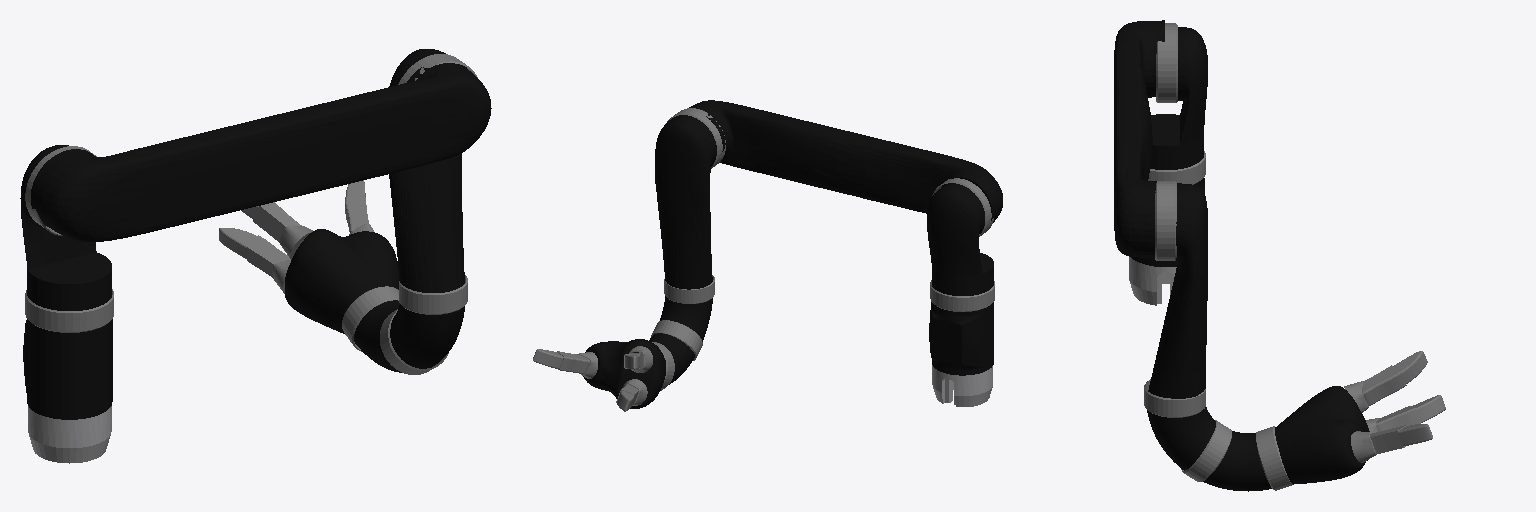
--- What the picture shows (computed from the rendered views, not written in the file) ---
Views: 3 orthographic renders of the robot side by side, from view 1: azimuth 30°, elevation 25°; view 2: azimuth 150°, elevation 25°; view 3: azimuth 270°, elevation 25°.
Robot: jaco_robot — 24 links, 23 joints (5 revolute, 4 continuous, 14 fixed); root link jaco_0_baseA; default pose: all joints at 0.
Links seen in each view (by area): view 1: jaco_2_upperarm_limb, jaco_3_forearm_limb, jaco_6_hand_limb, jaco_0_baseB_limb, jaco_1_shoulder_limb, jaco_0_baseA, jaco_4_upperwrist_limb, jaco_ring_1, jaco_ring_4, jaco_5_lowerwrist_limb, jaco_ring_6, jaco_8_finger_pinkie (+7 smaller); view 2: jaco_2_upperarm_limb, jaco_3_forearm_limb, jaco_1_shoulder_limb, jaco_0_baseB_limb, jaco_6_hand_limb, jaco_0_baseA, jaco_4_upperwrist_limb, jaco_ring_1, jaco_5_lowerwrist_limb, jaco_ring_5, jaco_ring_4, jaco_ring_3 (+1 smaller); view 3: jaco_2_upperarm_limb, jaco_3_forearm_limb, jaco_6_hand_limb, jaco_1_shoulder_limb, jaco_4_upperwrist_limb, jaco_5_lowerwrist_limb, jaco_ring_3, jaco_ring_2, jaco_0_baseA, jaco_ring_6, jaco_ring_5, jaco_ring_4 (+8 smaller).
Link boxes in pixels (bbox=[...]): jaco_2_upperarm_limb: bbox=[31, 63, 491, 241]; jaco_3_forearm_limb: bbox=[389, 49, 466, 292]; jaco_6_hand_limb: bbox=[285, 229, 398, 333]; jaco_0_baseB_limb: bbox=[23, 319, 112, 419]; jaco_1_shoulder_limb: bbox=[20, 145, 111, 310]; jaco_0_baseA: bbox=[28, 406, 111, 463]; jaco_4_upperwrist_limb: bbox=[390, 304, 464, 368]; jaco_ring_1: bbox=[25, 289, 113, 332]; jaco_ring_4: bbox=[399, 275, 467, 314]; jaco_5_lowerwrist_limb: bbox=[354, 300, 431, 372]; jaco_ring_6: bbox=[342, 286, 398, 351]; jaco_8_finger_pinkie: bbox=[253, 202, 303, 248]; jaco_2_upperarm_limb: bbox=[689, 100, 1002, 222]; jaco_3_forearm_limb: bbox=[655, 115, 716, 289]; jaco_1_shoulder_limb: bbox=[927, 183, 993, 295]; jaco_0_baseB_limb: bbox=[929, 302, 993, 375]; jaco_6_hand_limb: bbox=[583, 339, 665, 408]; jaco_0_baseA: bbox=[932, 365, 992, 406]; jaco_4_upperwrist_limb: bbox=[660, 296, 712, 341]; jaco_ring_1: bbox=[930, 280, 994, 311]; jaco_5_lowerwrist_limb: bbox=[649, 333, 694, 384]; jaco_ring_5: bbox=[651, 320, 702, 360]; jaco_ring_4: bbox=[664, 275, 714, 303]; jaco_ring_3: bbox=[667, 108, 725, 168]; jaco_2_upperarm_limb: bbox=[1114, 20, 1164, 257]; jaco_3_forearm_limb: bbox=[1148, 183, 1207, 398]; jaco_6_hand_limb: bbox=[1275, 386, 1369, 484]; jaco_1_shoulder_limb: bbox=[1150, 27, 1207, 169]; jaco_4_upperwrist_limb: bbox=[1147, 407, 1215, 470]; jaco_5_lowerwrist_limb: bbox=[1203, 431, 1271, 491]; jaco_ring_3: bbox=[1155, 181, 1176, 260]; jaco_ring_2: bbox=[1156, 23, 1177, 102]; jaco_0_baseA: bbox=[1129, 257, 1176, 305]; jaco_ring_6: bbox=[1256, 426, 1292, 490]; jaco_ring_5: bbox=[1181, 420, 1231, 481]; jaco_ring_4: bbox=[1144, 379, 1205, 417].
Size in the robot's own frame: 0.5338 by 0.3578 by 0.3608 metres.
23 mesh visuals loaded from 23 distinct referenced files (23 binary STL).

URDF robot description (jaco_robot):
<?xml version="1.0" ?>
<!-- =================================================================================== -->
<!-- |    This document was autogenerated by xacro from jaco_robot.urdf.xacro          | -->
<!-- |    EDITING THIS FILE BY HAND IS NOT RECOMMENDED                                 | -->
<!-- =================================================================================== -->
<robot name="jaco_robot" xmlns:controller="http://playerstage.sourceforge.net/gazebo/xmlschema/#controller" xmlns:interface="http://playerstage.sourceforge.net/gazebo/xmlschema/#interface" xmlns:sensor="http://playerstage.sourceforge.net/gazebo/xmlschema/#sensor" xmlns:xacro="http://ros.org/wiki/xacro">
  <!--link name="robot_root">
  </link-->
  <!-- fake cylinder which is actually a box -->
  <!--xacro:macro name="cyl_inertia" params="mass r h ">
      <mass value="${mass}"/>
      <inertia
      ixx="${mass / 12.0 * (r*r + h*h)}" ixy="0.0" ixz="0.0"
      iyy="${mass / 12.0 * (h*h + r*r)}" iyz="0.0"
      izz="${mass / 12.0 * (r*r + r*r)}"/>
  </xacro:macro-->
  <!-- ***************** MODEL CORRECTIONS ************************* -->
  <!-- *************************************************************** -->
  <!-- from measurements, pitch is -0.2293 -->
  <!-- MODEL_FIX transforms from wrist to finger mounts -->
  <!--<xacro:property name="f_thb_m_xyz" value=" 0.037  0.001  0.106" />
  <xacro:property name="f_idx_m_xyz" value="-0.034  0.022 0.106" />
  <xacro:property name="f_pnk_m_xyz" value="-0.034 -0.022 0.106" />
  <xacro:property name="f_thb_m_rpy" value="0 -0.2658 ${M_PI-0.226892}" /> 
  <xacro:property name="f_idx_m_rpy" value="0 -0.2293 -0.191986" />
  <xacro:property name="f_pnk_m_rpy" value="0 -0.2293 0.191986" />-->
  <!--joint name="jaco_arm_joint" type="fixed">
    <origin rpy="0 0 0" xyz="0 0 0"/>
    <parent link="robot_root"/>
    <child link="jaco_0_baseA"/>
  </joint-->
  <!-- for some reason, material only applies if full name specified...
       these only seem to work in older gazebo versions -->
  <gazebo reference="jaco_ring_">
    <material>Gazebo/Grey</material>
    <implicitSpringDamper>1</implicitSpringDamper>
    <mu1>100000</mu1>
    <mu2>100000</mu2>
    <kp>100000000.0</kp>
    <kd>1.0</kd>
  </gazebo>
  <gazebo reference="_limb">
    <material>Gazebo/FlatBlack</material>
    <implicitSpringDamper>1</implicitSpringDamper>
    <mu1>100000</mu1>
    <mu2>100000</mu2>
    <kp>100000000.0</kp>
    <kd>1.0</kd>
  </gazebo>
  <gazebo reference="_finger">
    <material>Gazebo/Grey</material>
    <implicitSpringDamper>1</implicitSpringDamper>
    <mu1>100000</mu1>
    <mu2>100000</mu2>
    <kp>100000000.0</kp>
    <kd>1.0</kd>
  </gazebo>
  <!-- for some reason, material only applies if full name specified -->
  <gazebo reference="jaco_0_baseA">
    <material>Gazebo/White</material>
    <mu1>100000</mu1>
    <mu2>100000</mu2>
    <kp>100000000.0</kp>
    <kd>1.0</kd>
  </gazebo>
  <gazebo reference="jaco_0_baseB_limb">
    <material>Gazebo/FlatBlack</material>
    <mu1>100000</mu1>
    <mu2>100000</mu2>
    <kp>100000000.0</kp>
    <kd>1.0</kd>
  </gazebo>
  <gazebo reference="jaco_ring_1">
    <material>Gazebo/Grey</material>
    <mu1>100000</mu1>
    <mu2>100000</mu2>
    <kp>100000000.0</kp>
    <kd>1.0</kd>
  </gazebo>
  <gazebo reference="jaco_ring_2">
    <material>Gazebo/Grey</material>
    <mu1>100000</mu1>
    <mu2>100000</mu2>
    <kp>100000000.0</kp>
    <kd>1.0</kd>
  </gazebo>
  <gazebo reference="jaco_ring_3">
    <material>Gazebo/Grey</material>
    <mu1>100000</mu1>
    <mu2>100000</mu2>
    <kp>100000000.0</kp>
    <kd>1.0</kd>
  </gazebo>
  <gazebo reference="jaco_ring_4">
    <material>Gazebo/Grey</material>
    <mu1>100000</mu1>
    <mu2>100000</mu2>
    <kp>100000000.0</kp>
    <kd>1.0</kd>
  </gazebo>
  <gazebo reference="jaco_ring_5">
    <material>Gazebo/Grey</material>
    <mu1>100000</mu1>
    <mu2>100000</mu2>
    <kp>100000000.0</kp>
    <kd>1.0</kd>
  </gazebo>
  <gazebo reference="jaco_ring_6">
    <material>Gazebo/Grey</material>
    <mu1>100000</mu1>
    <mu2>100000</mu2>
    <kp>100000000.0</kp>
    <kd>1.0</kd>
  </gazebo>
  <gazebo reference="jaco_1_shoulder_limb">
    <material>Gazebo/FlatBlack</material>
    <mu1>100000</mu1>
    <mu2>100000</mu2>
    <kp>100000000.0</kp>
    <kd>1.0</kd>
  </gazebo>
  <gazebo reference="jaco_2_upperarm_limb">
    <material>Gazebo/FlatBlack</material>
    <mu1>100000</mu1>
    <mu2>100000</mu2>
    <kp>100000000.0</kp>
    <kd>1.0</kd>
  </gazebo>
  <gazebo reference="jaco_3_forearm_limb">
    <material>Gazebo/FlatBlack</material>
    <mu1>100000</mu1>
    <mu2>100000</mu2>
    <kp>100000000.0</kp>
    <kd>1.0</kd>
  </gazebo>
  <gazebo reference="jaco_4_upperwrist_limb">
    <material>Gazebo/FlatBlack</material>
    <mu1>100000</mu1>
    <mu2>100000</mu2>
    <kp>100000000.0</kp>
    <kd>1.0</kd>
  </gazebo>
  <gazebo reference="jaco_5_lowerwrist_limb">
    <material>Gazebo/FlatBlack</material>
    <mu1>100000</mu1>
    <mu2>100000</mu2>
    <kp>100000000.0</kp>
    <kd>1.0</kd>
  </gazebo>
  <gazebo reference="jaco_6_hand_limb">
    <material>Gazebo/FlatBlack</material>
    <mu1>100000</mu1>
    <mu2>100000</mu2>
    <kp>100000000.0</kp>
    <kd>1.0</kd>
  </gazebo>
  <gazebo reference="jaco_fingers_base_link">
    <material>Gazebo/FlatBlack</material>
    <mu1>100000</mu1>
    <mu2>100000</mu2>
    <kp>100000000.0</kp>
    <kd>1.0</kd>
  </gazebo>
  <gazebo reference="jaco_7_finger_mount_index">
    <material>Gazebo/FlatBlack</material>
    <mu1>100000</mu1>
    <mu2>100000</mu2>
    <kp>100000000.0</kp>
    <kd>1.0</kd>
  </gazebo>
  <gazebo reference="jaco_7_finger_mount_thumb">
    <material>Gazebo/FlatBlack</material>
    <mu1>100000</mu1>
    <mu2>100000</mu2>
    <kp>100000000.0</kp>
    <kd>1.0</kd>
  </gazebo>
  <gazebo reference="jaco_7_finger_mount_pinkie">
    <material>Gazebo/FlatBlack</material>
    <mu1>100000</mu1>
    <mu2>100000</mu2>
    <kp>100000000.0</kp>
    <kd>1.0</kd>
  </gazebo>
  <gazebo reference="jaco_8_finger_thumb">
    <material>Gazebo/Grey</material>
    <mu1>100000</mu1>
    <mu2>100000</mu2>
    <kp>100000000.0</kp>
    <kd>1.0</kd>
  </gazebo>
  <gazebo reference="jaco_8_finger_index">
    <material>Gazebo/Grey</material>
    <mu1>100000</mu1>
    <mu2>100000</mu2>
    <kp>100000000.0</kp>
    <kd>1.0</kd>
  </gazebo>
  <gazebo reference="jaco_8_finger_pinkie">
    <material>Gazebo/Grey</material>
    <mu1>100000</mu1>
    <mu2>100000</mu2>
    <kp>100000000.0</kp>
    <kd>1.0</kd>
  </gazebo>
  <gazebo reference="jaco_9_finger_thumb_tip">
    <material>Gazebo/Grey</material>
    <mu1>100000</mu1>
    <mu2>100000</mu2>
    <kp>100000000.0</kp>
    <kd>1.0</kd>
  </gazebo>
  <gazebo reference="jaco_9_finger_index_tip">
    <material>Gazebo/Grey</material>
    <mu1>100000</mu1>
    <mu2>100000</mu2>
    <kp>100000000.0</kp>
    <kd>1.0</kd>
  </gazebo>
  <gazebo reference="jaco_9_finger_pinkie_tip">
    <material>Gazebo/Grey</material>
    <mu1>100000</mu1>
    <mu2>100000</mu2>
    <kp>100000000.0</kp>
    <kd>1.0</kd>
  </gazebo>
  <gazebo reference="jaco_finger_joint_0">
    <provideFeedback value="true"/>
  </gazebo>
  <gazebo reference="jaco_finger_joint_2">
    <provideFeedback value="true"/>
  </gazebo>
  <gazebo reference="jaco_finger_joint_4">
    <provideFeedback value="true"/>
  </gazebo>
  <link name="jaco_0_baseA">
    <inertial>
      <origin rpy="0 0 0" xyz="0 0 0.03"/>
      <mass value="0.5688"/>
      <inertia ixx="0.000349289202838" ixy="0" ixz="0" iyy="0.000349289202838" iyz="0" izz="0.0003685824"/>
    </inertial>
    <visual>
      <origin rpy="0 0 0" xyz="0 0 0"/>
      <geometry>
        <mesh filename="meshes/0_baseA.STL" scale="0.98 0.98 0.98"/>
      </geometry>
      <material name="light_grey">
        <color rgba="0.65 0.65 0.66 1"/>
      </material>
    </visual>
    <collision>
      <origin rpy="0 0 0" xyz="0 0 0"/>
      <geometry>
        <mesh filename="meshes/0_baseA.STL"/>
      </geometry>
    </collision>
  </link>
  <!-- ...........................        -->
  <link name="jaco_0_baseB_limb">
    <inertial>
      <origin rpy="0 0 0" xyz="0 0.04725 0"/>
      <mass value="0.5152"/>
      <inertia ixx="0.000589483042058" ixy="0" ixz="0" iyy="0.000589483042058" iyz="0" izz="0.00041216"/>
    </inertial>
    <visual>
      <origin rpy="0 0 0" xyz="0 0 0"/>
      <geometry>
        <mesh filename="meshes/0_baseB_limb.STL"/>
      </geometry>
      <material name="black">
        <color rgba="0.10 0.10 0.10 1"/>
      </material>
    </visual>
    <collision>
      <origin rpy="0 0 0" xyz="0 0 0"/>
      <geometry>
        <mesh filename="meshes/0_baseB_limb.STL"/>
      </geometry>
    </collision>
  </link>
  <joint name="jaco_base_internal" type="fixed">
    <origin rpy="1.57079632679 0 0" xyz="0 0 0.049"/>
    <parent link="jaco_0_baseA"/>
    <child link="jaco_0_baseB_limb"/>
    <axis xyz="0 0 0"/>
  </joint>
  <link name="jaco_ring_1">
    <inertial>
      <origin rpy="0 0 0" xyz="-3.57503886452221E-16 -1.58125151997128E-15 -5.55111512312578E-17"/>
      <mass value="0.00872"/>
      <inertia ixx="3.778651552e-06" ixy="0" ixz="0" iyy="3.778651552e-06" iyz="0" izz="6.976e-06"/>
    </inertial>
    <visual>
      <origin rpy="0 0 0" xyz="0 0 0"/>
      <geometry>
        <mesh filename="meshes/ring_1.STL"/>
      </geometry>
      <material name="grey">
        <color rgba="0.50 0.50 0.50 1"/>
      </material>
    </visual>
    <collision>
      <origin rpy="0 0 0" xyz="0 0 0"/>
      <geometry>
        <mesh filename="meshes/ring_1.STL"/>
      </geometry>
    </collision>
  </link>
  <joint name="jaco_ring_1_joint" type="fixed">
    <origin rpy="-1.57079632679 0.211499083190217 -3.14159265359" xyz="0 0.104 0"/>
    <parent link="jaco_0_baseB_limb"/>
    <child link="jaco_ring_1"/>
    <axis xyz="0 0 0"/>
  </joint>
  <!-- ...........................        -->
  <link name="jaco_1_shoulder_limb">
    <inertial>
      <origin rpy="0 0 0" xyz="0.0120470281905243 0.0657132437750733 0"/>
      <mass value="0.4782"/>
      <inertia ixx="0.00119872305509" ixy="0" ixz="0" iyy="0.00119872305509" iyz="0" izz="0.00038256"/>
    </inertial>
    <visual>
      <origin rpy="0 0 0" xyz="0 0 0"/>
      <geometry>
        <mesh filename="meshes/1_shoulder_limb.STL"/>
      </geometry>
      <material name="black">
        <color rgba="0.10 0.10 0.10 1"/>
      </material>
    </visual>
    <!--     <visual>
      <origin xyz="0 0 0" rpy="0 0 0" />
      <geometry>
        <sphere radius="0.005"/>
      </geometry>
      <material name="">
        <color rgba="0.10 0.10 0.10 1" />
      </material>
    </visual>
-->
    <collision>
      <origin rpy="0 0 0" xyz="0 0 0"/>
      <geometry>
        <mesh filename="meshes/1_shoulder_limb.STL"/>
      </geometry>
    </collision>
  </link>
  <joint name="jaco_arm_0_joint" type="continuous">
    <limit effort="8" velocity="1.0"/>
    <dynamics damping="0.5" friction="0.5"/>
    <origin rpy="0 1.57079632679 0" xyz="0 0.104 0"/>
    <parent link="jaco_0_baseB_limb"/>
    <child link="jaco_1_shoulder_limb"/>
    <axis xyz="0 1 0"/>
  </joint>
  <!-- ...........................        -->
  <link name="jaco_ring_2">
    <inertial>
      <origin rpy="0 0 0" xyz="0 0 0"/>
      <mass value="0.00872"/>
      <inertia ixx="3.778651552e-06" ixy="0" ixz="0" iyy="3.778651552e-06" iyz="0" izz="6.976e-06"/>
    </inertial>
    <visual>
      <origin rpy="0 0 0" xyz="-0.0005 -0.003 -0.001"/>
      <geometry>
        <mesh filename="meshes/ring_2.STL"/>
      </geometry>
      <material name="grey">
        <color rgba="0.50 0.50 0.50 1"/>
      </material>
    </visual>
    <collision>
      <origin rpy="0 0 0" xyz="-0.0005 -0.003 -0.001"/>
      <geometry>
        <mesh filename="meshes/ring_2.STL"/>
      </geometry>
    </collision>
  </link>
  <joint name="jaco_ring_2_joint" type="fixed">
    <origin rpy="-1.57079632679488 -1.49007956532211 1.57079632679488" xyz="0 0.1225 0"/>
    <parent link="jaco_1_shoulder_limb"/>
    <child link="jaco_ring_2"/>
    <axis xyz="0 0 0"/>
  </joint>
  <!-- ...........................        -->
  <link name="jaco_2_upperarm_limb">
    <inertial>
      <origin rpy="0 0 0" xyz="0.206003857152394 0 -0.0343672381612413"/>
      <mass value="1.37163"/>
      <inertia ixx="0.0282672380881" ixy="0" ixz="0" iyy="0.0282672380881" iyz="0" izz="0.001646641815"/>
    </inertial>
    <visual>
      <origin rpy="0 0 0" xyz="-0.003 -0.001 -0.001"/>
      <geometry>
        <mesh filename="meshes/2_upperarm_limb.STL"/>
      </geometry>
      <material name="black">
        <color rgba="0.10 0.10 0.10 1"/>
      </material>
    </visual>
    <!--     <visual>
      <origin xyz="0 0 0" rpy="0 0 0" />
      <geometry>
        <sphere radius="0.005"/>
      </geometry>
      <material name="">
        <color rgba="0.10 0.10 0.10 1" />
      </material>
    </visual>
-->
    <collision>
      <origin rpy="0 0 0" xyz="-0.003 -0.001 -0.001"/>
      <geometry>
        <mesh filename="meshes/2_upperarm_limb.STL"/>
      </geometry>
    </collision>
  </link>
  <joint name="jaco_arm_1_joint" type="revolute">
    <dynamics damping="0.5" friction="0.5"/>
    <limit effort="8" lower="-3.943" upper="0.81" velocity="1.0"/>
    <origin rpy="3.14159265359 -1.57079632679 0" xyz="0 0.1225 0"/>
    <parent link="jaco_1_shoulder_limb"/>
    <child link="jaco_2_upperarm_limb"/>
    <axis xyz="0 0 1"/>
  </joint>
  <!-- ...........................        -->
  <link name="jaco_ring_3">
    <inertial>
      <origin rpy="0 0 0" xyz="0 0 0"/>
      <mass value="0.00872"/>
      <inertia ixx="3.778651552e-06" ixy="0" ixz="0" iyy="3.778651552e-06" iyz="0" izz="6.976e-06"/>
    </inertial>
    <visual>
      <origin rpy="0 0 0" xyz="0.001 0 0"/>
      <geometry>
        <mesh filename="meshes/ring_3.STL"/>
      </geometry>
      <material name="grey">
        <color rgba="0.5 0.5 0.5 1"/>
      </material>
    </visual>
    <collision>
      <origin rpy="0 0 0" xyz="0.001 0 0"/>
      <geometry>
        <mesh filename="meshes/ring_3.STL"/>
      </geometry>
    </collision>
  </link>
  <joint name="jaco_ring_3_joint" type="fixed">
    <origin rpy="3.14159265359 0 -3.14159265359" xyz="0.41 0 0"/>
    <parent link="jaco_2_upperarm_limb"/>
    <child link="jaco_ring_3"/>
    <axis xyz="0 0 0"/>
  </joint>
  <!-- ........................... -->
  <link name="jaco_3_forearm_limb">
    <inertial>
      <origin rpy="0 0 0" xyz="0.0857562490792731 1.94295959371482E-06 0.0203407295609686"/>
      <mass value="0.67592919"/>
      <inertia ixx="0.00340683847249" ixy="0" ixz="0" iyy="0.00340683847249" iyz="0" izz="0.000324783975795"/>
    </inertial>
    <visual>
      <origin rpy="0 0 0" xyz="0 0 0"/>
      <geometry>
        <mesh filename="meshes/3_forearm_limb.STL"/>
      </geometry>
      <material name="black">
        <color rgba="0.1 0.1 0.1 1"/>
      </material>
    </visual>
    <!--     <visual>
      <origin xyz="0 0 0" rpy="0 0 0" />
      <geometry>
        <sphere radius="0.005"/>
      </geometry>
      <material name="">
        <color rgba="0.10 0.10 0.10 1" />
      </material>
    </visual>
-->
    <collision>
      <origin rpy="0 0 0" xyz="0 0 0"/>
      <geometry>
        <mesh filename="meshes/3_forearm_limb.STL"/>
      </geometry>
    </collision>
  </link>
  <joint name="jaco_arm_2_joint" type="revolute">
    <limit effort="4" lower="-4.395" upper="1.252" velocity="1.0"/>
    <dynamics damping="0.5" friction="0.5"/>
    <origin rpy="0 0 1.57079632679489" xyz="0.41 0 0"/>
    <parent link="jaco_2_upperarm_limb"/>
    <child link="jaco_3_forearm_limb"/>
    <axis xyz="0 0 1"/>
  </joint>
  <!-- ...........................        -->
  <link name="jaco_ring_4">
    <inertial>
      <origin rpy="0 0 0" xyz="0 0 0"/>
      <mass value="0.00676534123969"/>
      <inertia ixx="2.11472445691e-06" ixy="0" ixz="0" iyy="2.11472445691e-06" iyz="0" izz="3.68372830501e-06"/>
    </inertial>
    <visual>
      <origin rpy="0 0 0" xyz="0 0 0"/>
      <geometry>
        <mesh filename="meshes/ring_4.STL"/>
      </geometry>
      <material name="grey">
        <color rgba="0.5 0.5 0.5 1"/>
      </material>
    </visual>
    <collision>
      <origin rpy="0 0 0" xyz="0 0 0"/>
      <geometry>
        <mesh filename="meshes/ring_4.STL"/>
      </geometry>
    </collision>
  </link>
  <joint name="jaco_ring_4_joint" type="fixed">
    <origin rpy="3.14159265359 -1.57079632679 0" xyz="0.2073 0 0.0098"/>
    <parent link="jaco_3_forearm_limb"/>
    <child link="jaco_ring_4"/>
    <axis xyz="-1 0 0"/>
  </joint>
  <!-- ...........................        -->
  <link name="jaco_4_upperwrist_limb">
    <inertial>
      <origin rpy="0 0 0" xyz="-0.0371070560898082 -0.00912675248782567 -2.44092722145872E-08"/>
      <mass value="0.24550336286"/>
      <inertia ixx="0.000272235953438" ixy="0" ixz="0" iyy="0.000272235953438" iyz="0" izz="0.000135301813339"/>
    </inertial>
    <visual>
      <origin rpy="0 0 0" xyz="0 0 0"/>
      <geometry>
        <mesh filename="meshes/4_upperwrist_limb.STL"/>
      </geometry>
      <material name="black">
        <color rgba="0.1 0.1 0.1 1"/>
      </material>
    </visual>
    <!--     <visual>
      <origin xyz="0 0 0" rpy="0 0 0" />
      <geometry>
        <sphere radius="0.005"/>
      </geometry>
      <material name="">
        <color rgba="0.10 0.10 0.10 1" />
      </material>
    </visual>
-->
    <collision>
      <origin rpy="0 0 0" xyz="0 0 0"/>
      <geometry>
        <mesh filename="meshes/4_upperwrist_limb.STL"/>
      </geometry>
    </collision>
  </link>
  <joint name="jaco_arm_3_joint" type="continuous">
    <limit effort="1.5" velocity="1.0"/>
    <dynamics damping="0.05" friction="0.05"/>
    <origin rpy="-1.57079632679484 0 -3.14159265358951" xyz="0.2073 0 0.0098"/>
    <parent link="jaco_3_forearm_limb"/>
    <child link="jaco_4_upperwrist_limb"/>
    <axis xyz="-1 0 0"/>
  </joint>
  <!-- ...........................        -->
  <link name="jaco_ring_5">
    <inertial>
      <origin rpy="0 0 0" xyz="-1.54831009124834E-13 4.27435864480685E-15 -2.58654209162046E-13"/>
      <mass value="0.00676534123969"/>
      <inertia ixx="2.11472445691e-06" ixy="0" ixz="0" iyy="2.11472445691e-06" iyz="0" izz="3.68372830501e-06"/>
    </inertial>
    <visual>
      <origin rpy="0 0 0" xyz="0 0 0"/>
      <geometry>
        <mesh filename="meshes/ring_5.STL"/>
      </geometry>
      <material name="grey">
        <color rgba="0.5 0.5 0.5 1"/>
      </material>
    </visual>
    <collision>
      <origin rpy="0 0 0" xyz="0 0 0"/>
      <geometry>
        <mesh filename="meshes/ring_5.STL"/>
      </geometry>
    </collision>
  </link>
  <joint name="jaco_ring_5_joint" type="fixed">
    <origin rpy="-1.57079632679506 0 -0.610865238196312" xyz="-0.06590490 -0.034307921 0"/>
    <parent link="jaco_4_upperwrist_limb"/>
    <child link="jaco_ring_5"/>
    <axis xyz="-1 0 0"/>
  </joint>
  <!-- ...........................        -->
  <link name="jaco_5_lowerwrist_limb">
    <inertial>
      <origin rpy="0 0 0" xyz="-0.0176083455436658 -0.00912672231835664 -5.99117305766228E-09"/>
      <mass value="0.2455"/>
      <inertia ixx="0.0002722322244" ixy="0" ixz="0" iyy="0.0002722322244" iyz="0" izz="0.00013529996"/>
    </inertial>
    <visual>
      <origin rpy="0 0 0" xyz="-0.01715 0 0"/>
      <geometry>
        <mesh filename="meshes/5_lowerwrist_limb.STL"/>
      </geometry>
      <material name="black">
        <color rgba="0.1 0.1 0.1 1"/>
      </material>
    </visual>
    <!--     <visual>
      <origin xyz="0 0 0" rpy="0 0 0" />
      <geometry>
        <sphere radius="0.005"/>
      </geometry>
      <material name="">
        <color rgba="0.10 0.10 0.10 1" />
      </material>
    </visual>
-->
    <collision>
      <origin rpy="0 0 0" xyz="-0.01715 0 0"/>
      <geometry>
        <mesh filename="meshes/5_lowerwrist_limb.STL"/>
      </geometry>
    </collision>
  </link>
  <joint name="jaco_arm_4_joint" type="continuous">
    <limit effort="1.0" velocity="1.0"/>
    <dynamics damping="0.05" friction="0.05"/>
    <!-- caluclated form DH-Parameter documentation. An iscoceles triangle with tip angle 55 degrees has base angles (gamma) 62.5.
       Base has length 74.3. Then sin(gamma)=y/74.3 and cos(gamma)=x/74.3, hence y=65.90590 and x=34.307921963  -->
    <origin rpy="0 0 0.959931089" xyz="-0.06590490 -0.034307921 0"/>
    <parent link="jaco_4_upperwrist_limb"/>
    <child link="jaco_5_lowerwrist_limb"/>
    <axis xyz="-1 0 0"/>
  </joint>
  <!-- ...........................        -->
  <link name="jaco_ring_6">
    <inertial>
      <origin rpy="0 0 0" xyz="2.12629684692711E-10 7.53045514834128E-10 3.03666577994299E-10"/>
      <mass value="0.00676"/>
      <inertia ixx="2.11305488108e-06" ixy="0" ixz="0" iyy="2.11305488108e-06" iyz="0" izz="3.68082e-06"/>
    </inertial>
    <visual>
      <origin rpy="0 0 0" xyz="-0.001 0 0"/>
      <geometry>
        <mesh filename="meshes/ring_6.STL"/>
      </geometry>
      <material name="grey">
        <color rgba="0.5 0.5 0.5 1"/>
      </material>
    </visual>
    <collision>
      <origin rpy="0 0 0" xyz="-0.001 0 0"/>
      <geometry>
        <mesh filename="meshes/ring_6.STL"/>
      </geometry>
    </collision>
  </link>
  <joint name="jaco_ring_6_joint" type="fixed">
    <origin rpy="1.57079632679 0 2.53072741539211 " xyz="-0.06590490 -0.034307921 0"/>
    <parent link="jaco_5_lowerwrist_limb"/>
    <child link="jaco_ring_6"/>
    <axis xyz="0 0 0"/>
  </joint>
  <!-- ...........................        -->
  <link name="jaco_6_hand_limb">
    <inertial>
      <origin rpy="0 0 0" xyz="-0.0555917045329114 -7.25586546752172E-05 -0.00317411883668722"/>
      <mass value="0.2"/>
      <inertia ixx="0.0007852635256" ixy="0" ixz="0" iyy="0.0007852635256" iyz="0" izz="0.00121"/>
    </inertial>
    <visual>
      <origin rpy="0 0 0" xyz="0 0 0"/>
      <geometry>
        <mesh filename="meshes/6_hand_limb.STL" scale="1.0 1.0 1.0"/>
      </geometry>
      <material name="black">
        <color rgba="0.1 0.1 0.1 1"/>
      </material>
    </visual>
    <!--     <visual>
      <origin xyz="0 0 0" rpy="0 0 0" />
      <geometry>
        <sphere radius="0.005"/>
      </geometry>
      <material name="">
        <color rgba="0.10 0.10 0.10 1" />
      </material>
    </visual>
-->
    <collision>
      <origin rpy="0 0 0" xyz="0 0 0"/>
      <geometry>
        <mesh filename="meshes/6_hand_limb.STL" scale="1.0 1.0 1.0"/>
      </geometry>
    </collision>
  </link>
  <joint name="jaco_arm_5_joint" type="continuous">
    <limit effort="1.0" velocity="1.0"/>
    <dynamics damping="0.05" friction="0.05"/>
    <!-- added some experimental angle changes to the arm wrist, as this was not accurate .. tried to touch the base with the hand, and it didn't look the same
    in rviz. I tuned the values so rviz would show same position. However, it's likely this can be better fine tuned -->
    <origin rpy="-1.57079632679 0 0.959931089" xyz="-0.06590490 -0.034307921 0"/>
    <parent link="jaco_5_lowerwrist_limb"/>
    <child link="jaco_6_hand_limb"/>
    <axis xyz="-1 0 0"/>
  </joint>
  <link name="jaco_fingers_base_link">
    <inertial>
      <origin rpy="0 0 0" xyz="0 0 0"/>
      <mass value="0.001"/>
      <inertia ixx="3.33332e-08" ixy="0" ixz="0" iyy="3.33332e-08" iyz="0" izz="5e-08"/>
    </inertial>
  </link>
  <!-- this joint is only to align the coordinate system with the kinova specification frame -->
  <joint name="jaco_fingers_base_joint" type="fixed">
    <origin rpy="-1.57079632679 3.14159265359 1.57079632679" xyz="0 0 0"/>
    <parent link="jaco_6_hand_limb"/>
    <child link="jaco_fingers_base_link"/>
  </joint>
  <!-- ...........................  -->
  <!--      FINGERS          -->
  <!-- ...........................  -->
  <link name="jaco_7_finger_mount_index">
    <inertial>
      <origin rpy="0 0 0" xyz="0 0.00706399246397285 -0.00176078508424846"/>
      <mass value="0.006465"/>
      <inertia ixx="7.8441686232e-07" ixy="0" ixz="0" iyy="7.8441686232e-07" iyz="0" izz="1.04733e-06"/>
    </inertial>
    <visual>
      <origin rpy="1.57079632679 0 1.57079632679" xyz="0 0 0"/>
      <geometry>
        <mesh filename="meshes/7_finger_mount_index.STL"/>
      </geometry>
      <material name="grey">
        <color rgba="0.5 0.5 0.5 1"/>
      </material>
    </visual>
    <collision>
      <origin rpy="1.57079632679 0 1.57079632679" xyz="0 0 0"/>
      <geometry>
        <mesh filename="meshes/7_finger_mount_index.STL"/>
      </geometry>
    </collision>
  </link>
  <joint name="jaco_finger_mount_index_fixed" type="fixed">
    <!--- remark 2014: damping greater than 0.1 (0.2) lead to model break downs when testing it bit by bit -->
    <!--- remark jan 2016: damping and friction higher than 0.005 required very high forces in order for the fingers
              to move at all, and then they mooved only slowly. -->
    <!--dynamics damping="0.1" friction="1.0"/-->
    <dynamics damping="0.005" friction="0.005"/>
    <origin rpy="0 -0.2293 -0.191986" xyz="-0.034  0.022 0.095"/>
    <parent link="jaco_fingers_base_link"/>
    <child link="jaco_7_finger_mount_index"/>
    <axis xyz="0 0 0"/>
  </joint>
  <!-- ...........................        -->
  <link name="jaco_8_finger_index">
    <inertial>
      <origin rpy="0 0 0" xyz="-0.0181403689626489 0 0.00272470933850985"/>
      <mass value="0.01845"/>
      <inertia ixx="6.37560262249e-06" ixy="0" ixz="0" iyy="6.37560262249e-06" iyz="0" izz="1.68125625e-06"/>
    </inertial>
    <!--     <visual>
      <origin xyz="0 0 0" rpy="0 0 0" />
      <geometry>
        <sphere radius="0.005"/>
      </geometry>
      <material name="">
        <color rgba="0.10 0.10 0.10 1" />
      </material>
    </visual>
-->
    <visual>
      <origin rpy="3.14159265359 1.1780972445 0" xyz="0 0 0"/>
      <geometry>
        <mesh filename="meshes/8_finger_index.STL"/>
      </geometry>
      <material name="grey">
        <color rgba="0.50 0.50 0.50 1"/>
      </material>
    </visual>
    <collision>
      <origin rpy="3.14159265359 1.1780972445 0" xyz="0 0 0"/>
      <geometry>
        <mesh filename="meshes/8_finger_index.STL"/>
      </geometry>
    </collision>
  </link>
  <joint name="jaco_finger_joint_0" type="revolute">
    <!--- remark 2014: damping greater than 0.1 (0.2) lead to model break downs when testing it bit by bit -->
    <!--- remark jan 2016: damping and friction higher than 0.005 required very high forces in order for the fingers
              to move at all, and then they mooved only slowly. -->
    <!--dynamics damping="0.1" friction="1.0"/-->
    <dynamics damping="0.005" friction="0.005"/>
    <origin rpy="0 -0.34 -0.191986" xyz="-0.0276  0.0204 0.11"/>
    <parent link="jaco_fingers_base_link"/>
    <child link="jaco_8_finger_index"/>
    <axis xyz="0 1 0"/>
    <limit effort="1.5" lower="-0.0045" upper="1.05" velocity="0.2"/>
  </joint>
  <!-- ...........................        -->
  <link name="jaco_9_finger_index_tip">
    <inertial>
      <origin rpy="0 0 0" xyz="-0.01340812509202 -4.52693266978291E-07 0.0118561361126153"/>
      <mass value="0.0122"/>
      <inertia ixx="2.6850059266e-06" ixy="0" ixz="0" iyy="2.6850059266e-06" iyz="0" izz="8.784e-07"/>
    </inertial>
    <!--     <visual>
      <origin xyz="0 0 0" rpy="0 0 0" />
      <geometry>
        <sphere radius="0.005"/>
      </geometry>
      <material name="">
        <color rgba="0.10 0.10 0.10 1" />
      </material>
    </visual>
-->
    <visual>
      <origin rpy="0 1.57079632679 3.14159265359" xyz="0 0 0"/>
      <geometry>
        <mesh filename="meshes/9_finger_index_tip.STL" scale="1 1 1"/>
      </geometry>
      <material name="grey">
        <color rgba="0.5 0.5 0.5 1"/>
      </material>
    </visual>
    <collision>
      <origin rpy="0 1.57079632679 3.14159265359" xyz="0 0 0"/>
      <geometry>
        <mesh filename="meshes/9_finger_index_tip.STL" scale="1 1 1"/>
      </geometry>
    </collision>
  </link>
  <joint name="jaco_finger_joint_1" type="fixed">
    <!--- remark 2014: damping greater than 0.1 (0.2) lead to model break downs when testing it bit by bit -->
    <!--- remark jan 2016: damping and friction higher than 0.005 required very high forces in order for the fingers
              to move at all, and then they mooved only slowly. -->
    <!--dynamics damping="0.1" friction="1.0"/-->
    <dynamics damping="0.005" friction="0.005"/>
    <origin rpy="0 0 0" xyz="0 0 0.0441"/>
    <parent link="jaco_8_finger_index"/>
    <child link="jaco_9_finger_index_tip"/>
  </joint>
  <!-- ...........................        -->
  <link name="jaco_7_finger_mount_thumb">
    <inertial>
      <origin rpy="0 0 0" xyz="-2.65251193937339E-07 0.00706398229186052 -0.00176078674955921"/>
      <mass value="0.006465"/>
      <inertia ixx="7.8441686232e-07" ixy="0" ixz="0" iyy="7.8441686232e-07" iyz="0" izz="1.04733e-06"/>
    </inertial>
    <visual>
      <origin rpy="1.57079632679 0 1.57079632679" xyz="0 0 0"/>
      <geometry>
        <mesh filename="meshes/7_finger_mount_thumb.STL"/>
      </geometry>
      <material name="grey">
        <color rgba="0.50 0.50 0.50 1"/>
      </material>
    </visual>
    <collision>
      <origin rpy="1.57079632679 0 1.57079632679" xyz="0 0 0"/>
      <geometry>
        <mesh filename="meshes/7_finger_mount_thumb.STL"/>
      </geometry>
    </collision>
  </link>
  <joint name="jaco_finger_mount_thumb_fixed" type="fixed">
    <!--- remark 2014: damping greater than 0.1 (0.2) lead to model break downs when testing it bit by bit -->
    <!--- remark jan 2016: damping and friction higher than 0.005 required very high forces in order for the fingers
              to move at all, and then they mooved only slowly. -->
    <!--dynamics damping="0.1" friction="1.0"/-->
    <dynamics damping="0.005" friction="0.005"/>
    <origin rpy="0 -0.2658 2.91470065359" xyz=" 0.037  0.001  0.095"/>
    <parent link="jaco_fingers_base_link"/>
    <child link="jaco_7_finger_mount_thumb"/>
  </joint>
  <!-- ...........................        -->
  <link name="jaco_8_finger_thumb">
    <inertial>
      <origin rpy="0 0 0" xyz="-0.0181403317517619 -3.13818432741766E-07 0.00272473343106584"/>
      <mass value="0.0184"/>
      <inertia ixx="6.3583245666e-06" ixy="0" ixz="0" iyy="6.3583245666e-06" iyz="0" izz="1.6767e-06"/>
    </inertial>
    <!--     <visual>
      <origin xyz="0 0 0" rpy="0 0 0" />
      <geometry>
        <sphere radius="0.005"/>
      </geometry>
      <material name="">
        <color rgba="0.10 0.10 0.10 1" />
      </material>
    </visual>
-->
    <visual>
      <origin rpy="3.14159265359 1.1780972445 0" xyz="0 0 0"/>
      <geometry>
        <mesh filename="meshes/8_finger_thumb.STL"/>
      </geometry>
      <material name="grey">
        <color rgba="0.5 0.5 0.5 1"/>
      </material>
    </visual>
    <collision>
      <origin rpy="3.14159265359 1.1780972445 0" xyz="0 0 0"/>
      <geometry>
        <mesh filename="meshes/8_finger_thumb.STL"/>
      </geometry>
    </collision>
  </link>
  <joint name="jaco_finger_joint_2" type="revolute">
    <!--- remark 2014: damping greater than 0.1 (0.2) lead to model break downs when testing it bit by bit -->
    <!--- remark jan 2016: damping and friction higher than 0.005 required very high forces in order for the fingers
              to move at all, and then they mooved only slowly. -->
    <!--dynamics damping="0.1" friction="1.0"/-->
    <dynamics damping="0.005" friction="0.005"/>
    <origin rpy="0 -0.37 2.91470065359" xyz=" 0.0319  0.003  0.11"/>
    <parent link="jaco_fingers_base_link"/>
    <child link="jaco_8_finger_thumb"/>
    <axis xyz="0 1 0"/>
    <limit effort="1.5" lower="-0.0045" upper="1.05" velocity="0.2"/>
  </joint>
  <!-- ...........................        -->
  <link name="jaco_9_finger_thumb_tip">
    <inertial>
      <origin rpy="0 0 0" xyz="-0.0134080639046228 -4.56622786070351E-07 0.0118561154422042"/>
      <mass value="0.0122"/>
      <inertia ixx="2.6850059266e-06" ixy="0" ixz="0" iyy="2.6850059266e-06" iyz="0" izz="8.784e-07"/>
    </inertial>
    <visual>
      <origin rpy="0 1.57079632679 3.14159265359" xyz="0 0 0"/>
      <geometry>
        <mesh filename="meshes/9_finger_thumb_tip.STL" scale="1 1 1"/>
      </geometry>
      <material name="grey">
        <color rgba="0.5 0.5 0.5 1"/>
      </material>
    </visual>
    <collision>
      <origin rpy="0 1.57079632679 3.14159265359" xyz="0 0 0"/>
      <geometry>
        <mesh filename="meshes/9_finger_thumb_tip.STL" scale="1 1 1"/>
      </geometry>
    </collision>
  </link>
  <joint name="jaco_finger_joint_3" type="fixed">
    <!--- remark 2014: damping greater than 0.1 (0.2) lead to model break downs when testing it bit by bit -->
    <!--- remark jan 2016: damping and friction higher than 0.005 required very high forces in order for the fingers
              to move at all, and then they mooved only slowly. -->
    <!--dynamics damping="0.1" friction="1.0"/-->
    <dynamics damping="0.005" friction="0.005"/>
    <origin rpy="0 0 0" xyz="0 0 0.0441"/>
    <parent link="jaco_8_finger_thumb"/>
    <child link="jaco_9_finger_thumb_tip"/>
  </joint>
  <!-- ...........................        -->
  <link name="jaco_7_finger_mount_pinkie">
    <inertial>
      <origin rpy="0 0 0" xyz="0 0.00706399455294665 -0.00176077690193762"/>
      <mass value="0.00646"/>
      <inertia ixx="7.8381019808e-07" ixy="0" ixz="0" iyy="7.8381019808e-07" iyz="0" izz="1.04652e-06"/>
    </inertial>
    <visual>
      <origin rpy="1.57079632679 0 1.57079632679" xyz="0 0 0"/>
      <geometry>
        <mesh filename="meshes/7_finger_mount_pinkie.STL"/>
      </geometry>
      <material name="grey">
        <color rgba="0.5 0.5 0.5 1"/>
      </material>
    </visual>
    <collision>
      <origin rpy="1.57079632679 0 1.57079632679" xyz="0 0 0"/>
      <geometry>
        <mesh filename="meshes/7_finger_mount_pinkie.STL"/>
      </geometry>
    </collision>
  </link>
  <joint name="jaco_finger_mount_pinkie_fixed" type="fixed">
    <!--- remark 2014: damping greater than 0.1 (0.2) lead to model break downs when testing it bit by bit -->
    <!--- remark jan 2016: damping and friction higher than 0.005 required very high forces in order for the fingers
              to move at all, and then they mooved only slowly. -->
    <!--dynamics damping="0.1" friction="1.0"/-->
    <dynamics damping="0.005" friction="0.005"/>
    <origin rpy="0 -0.2293 0.191986" xyz="-0.034 -0.022 0.095"/>
    <parent link="jaco_fingers_base_link"/>
    <child link="jaco_7_finger_mount_pinkie"/>
  </joint>
  <!-- ...........................        -->
  <link name="jaco_8_finger_pinkie">
    <inertial>
      <origin rpy="0 0 0" xyz="-0.0181404164708055 -2.87009015777565E-07 0.00272467774606585"/>
      <mass value="0.01845"/>
      <inertia ixx="6.37560262249e-06" ixy="0" ixz="0" iyy="6.37560262249e-06" iyz="0" izz="1.68125625e-06"/>
    </inertial>
    <!--     <visual>
      <origin xyz="0 0 0" rpy="0 0 0" />
      <geometry>
        <sphere radius="0.005"/>
      </geometry>
      <material name="">
        <color rgba="0.10 0.10 0.10 1" />
      </material>
    </visual>
-->
    <visual>
      <origin rpy="3.14159265359 1.1780972445 0" xyz="0 0 0"/>
      <geometry>
        <mesh filename="meshes/8_finger_pinkie.STL"/>
      </geometry>
      <material name="grey">
        <color rgba="0.5 0.5 0.5 1"/>
      </material>
    </visual>
    <collision>
      <origin rpy="3.14159265359 1.1780972445 0" xyz="0 0 0"/>
      <geometry>
        <mesh filename="meshes/8_finger_pinkie.STL"/>
      </geometry>
    </collision>
  </link>
  <joint name="jaco_finger_joint_4" type="revolute">
    <!--- remark 2014: damping greater than 0.1 (0.2) lead to model break downs when testing it bit by bit -->
    <!--- remark jan 2016: damping and friction higher than 0.005 required very high forces in order for the fingers
              to move at all, and then they mooved only slowly. -->
    <!--dynamics damping="0.1" friction="1.0"/-->
    <dynamics damping="0.005" friction="0.005"/>
    <origin rpy="0 -0.34 0.191986" xyz="-0.0276 -0.0204 0.11"/>
    <parent link="jaco_fingers_base_link"/>
    <child link="jaco_8_finger_pinkie"/>
    <axis xyz="0 1 0"/>
    <limit effort="1.5" lower="-0.0045" upper="1.05" velocity="0.2"/>
  </joint>
  <!-- ...........................        -->
  <link name="jaco_9_finger_pinkie_tip">
    <inertial>
      <origin rpy="0 0 0" xyz="-0.0134 0 0.01185"/>
      <mass value="0.0122"/>
      <inertia ixx="2.6850059266e-06" ixy="0" ixz="0" iyy="2.6850059266e-06" iyz="0" izz="8.784e-07"/>
    </inertial>
    <visual>
      <origin rpy="0 1.57079632679 3.14159265359" xyz="0 0 0"/>
      <geometry>
        <mesh filename="meshes/9_finger_pinkie_tip.STL" scale="1 1 1"/>
      </geometry>
      <material name="grey">
        <color rgba="0.5 0.5 0.5 1"/>
      </material>
    </visual>
    <collision>
      <origin rpy="0 1.57079632679 3.14159265359" xyz="0 0 0"/>
      <geometry>
        <mesh filename="meshes/9_finger_pinkie_tip.STL" scale="1 1 1"/>
      </geometry>
    </collision>
  </link>
  <joint name="jaco_finger_joint_5" type="fixed">
    <!--- remark 2014: damping greater than 0.1 (0.2) lead to model break downs when testing it bit by bit -->
    <!--- remark jan 2016: damping and friction higher than 0.005 required very high forces in order for the fingers
              to move at all, and then they mooved only slowly. -->
    <!--dynamics damping="0.1" friction="1.0"/-->
    <dynamics damping="0.005" friction="0.005"/>
    <origin rpy="0 0 0" xyz="0 0 0.0441"/>
    <parent link="jaco_8_finger_pinkie"/>
    <child link="jaco_9_finger_pinkie_tip"/>
  </joint>
</robot>
